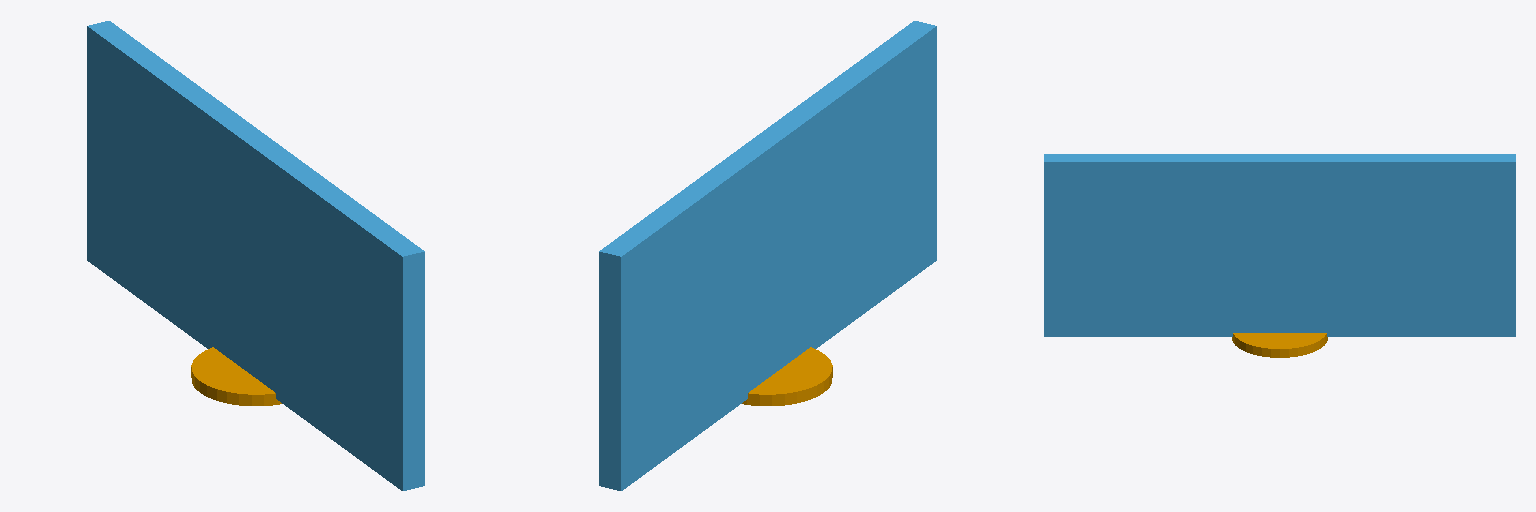
robot.urdf — rotation:
<?xml version="1.0"?>
<robot name="rotation">

    <link name="base_link">
        <visual>
            <geometry>
                <cylinder radius="0.2" length="0.04"/>
            </geometry>
            <origin xyz="0 0 0" rpy="0 0 0" />
        </visual>
        <collision>
            <origin xyz="0 0 0"/>
            <geometry>
                <cylinder radius="0.2" length="0.04"/>
            </geometry>
        </collision>
        <inertial>
            <mass value="0.3"/>
            <inertia ixx="0.00304" ixy="0.0" ixz="0.0" iyy="0.00304" iyz="0.0" izz="0.006"/>
        </inertial>
    </link>

    <link name="rotation1">
        <visual>
            <geometry>
                <box size="0.08 1.95 0.8" />
            </geometry>
            <origin xyz="0 0 0.4" rpy="0 0 0" />
        </visual>
        <collision>
            <geometry>
               <box size="0.08 1.95 0.8" />
            </geometry>
            <origin xyz="0 0 0.4" rpy="0 0 0" />
        </collision>
        <inertial>
            <mass value="4.0"/>
            <inertia ixx="0.01616" ixy="0.0" ixz="0.0" iyy="0.17225" iyz="0.0" izz="1.232"/>
        </inertial>
    </link>


    <joint name="rot1" type="revolute">
        <origin xyz="0 0 0" rpy="0 0 0" />
        <parent link="base_link"/>
        <child link="rotation1" />
        <axis xyz="0.0 0.0 1.0" />
        <limit effort="33.5" velocity="28"/>
    </joint>

</robot>

--- Render facts (derived) ---
Views: 3 orthographic renders of the robot side by side, from view 1: azimuth 30°, elevation 25°; view 2: azimuth 150°, elevation 25°; view 3: azimuth 270°, elevation 25°.
Robot: rotation — 2 links, 1 joints (1 revolute); root link base_link; default pose: every joint at zero.
Links seen in each view (by area): view 1: rotation1, base_link; view 2: rotation1, base_link; view 3: rotation1, base_link.
Boxes of the visible links, box(x1,y1,x2,y2) form: rotation1: box(87, 21, 424, 490); base_link: box(191, 347, 281, 405); rotation1: box(599, 21, 936, 490); base_link: box(742, 347, 832, 405); rotation1: box(1044, 154, 1515, 336); base_link: box(1232, 333, 1327, 357).
Size in the robot's own frame: 0.4 by 1.95 by 0.82 metres.
Geometry: primitives only (box / cylinder / sphere), no mesh files.